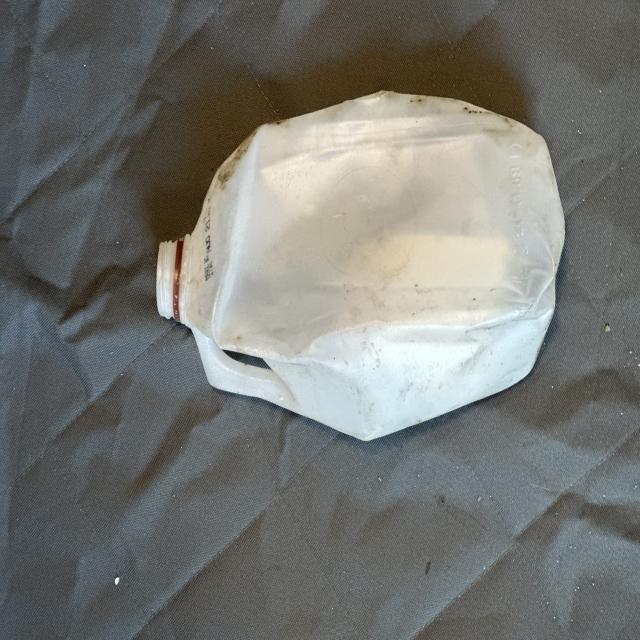milk-jug: (160, 88, 568, 441)
